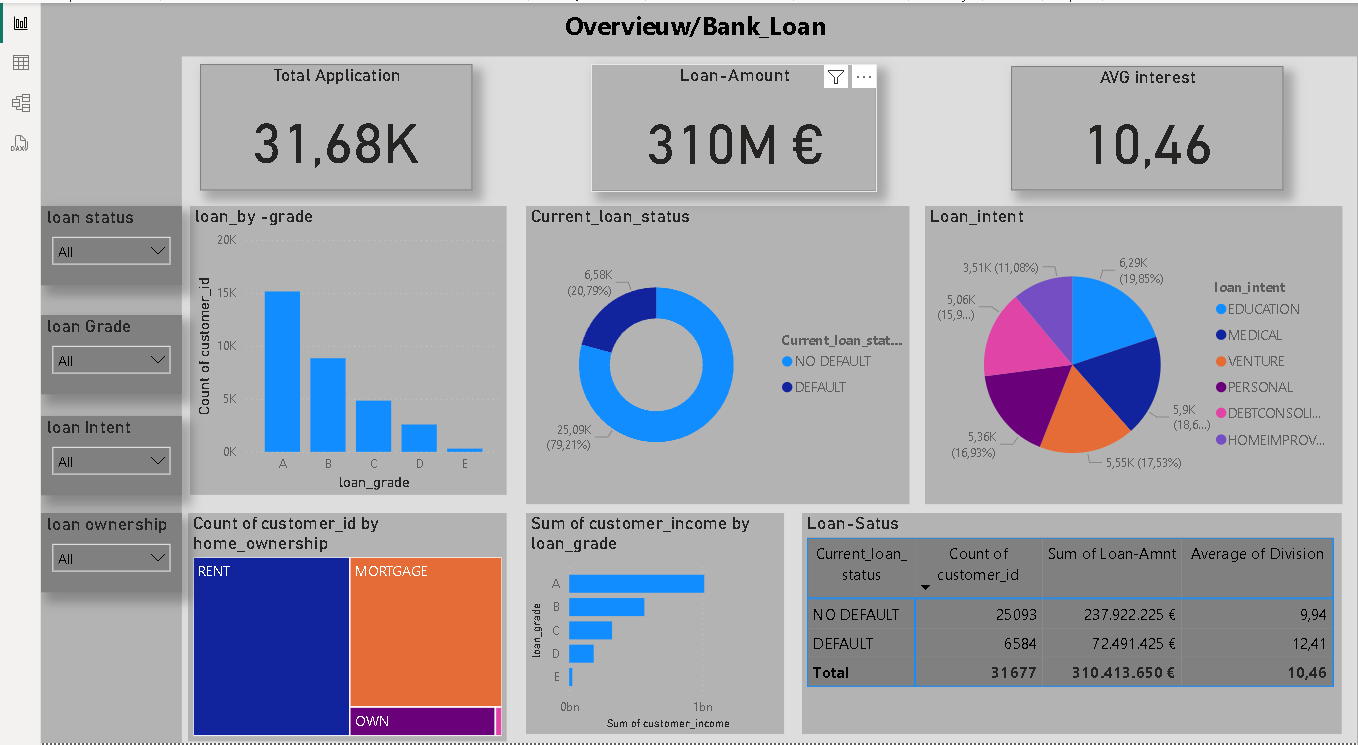

Layout of this report page (visuals, bound fields, positions):
{"tool":"powerbi","page":{"name":"Page 1","canvas":[1280,720],"ordinal":0},"visuals":[{"type":"card","title":"Total Application  ","fields":{"Values":["CountNonNull(loan_risk.customer_id)"]},"box":[154.7,59.3,264.6,122.6],"z":0},{"type":"columnChart","title":"loan_by -grade","fields":{"Category":["loan_risk.loan_grade"],"Y":["CountNonNull(loan_risk.customer_id)"]},"box":[144.9,197.4,308.3,281.1],"z":1000},{"type":"donutChart","title":" Current_loan_status","fields":{"Category":["loan_risk.Current_loan_status"],"Y":["CountNonNull(loan_risk.customer_id)"]},"box":[471.7,197.4,373.5,289.8],"z":2000},{"type":"pieChart","title":" Loan_intent","fields":{"Category":["loan_risk.loan_intent"],"Y":["CountNonNull(loan_risk.customer_id)"]},"box":[859.8,197.4,405.6,289.8],"z":3000},{"type":"treemap","fields":{"Group":["loan_risk.home_ownership"],"Values":["CountNonNull(loan_risk.customer_id)"]},"box":[143,496,310.3,221.8],"z":4000},{"type":"card","title":"AVG interest","fields":{"Values":["Avg(loan_risk.Division)"]},"box":[943.5,61.3,264.6,120.6],"z":5000},{"type":"card","title":"Loan-Amount","fields":{"Values":["Sum(loan_risk.Loan-Amnt)"]},"box":[535,59.3,278.2,124.5],"z":6000},{"type":"pivotTable","title":"Loan-Satus ","fields":{"Rows":["loan_risk.Current_loan_status"],"Values":["Count(loan_risk.customer_id)","Sum(loan_risk.Loan-Amnt)","Avg(loan_risk.Division)"]},"box":[740.2,496,525.2,215],"z":7000},{"type":"textbox","box":[0,0,137.1,719.8],"z":7500},{"type":"barChart","fields":{"Category":["loan_risk.loan_grade"],"Y":["Sum(loan_risk.customer_income)"]},"box":[471.7,496,250.9,215],"z":8000},{"type":"textbox","box":[0,0,1280,51.6],"z":10000},{"type":"slicer","title":"loan status","fields":{"Values":["loan_risk.Current_loan_status"]},"box":[0,197.4,137.1,76.8],"z":14500},{"type":"slicer","title":"loan Grade","fields":{"Values":["loan_risk.loan_grade"]},"box":[0,303.5,137.1,76.8],"z":15000},{"type":"slicer","title":"loan Intent","fields":{"Values":["loan_risk.loan_intent"]},"box":[0,401.7,137.1,76.8],"z":15500},{"type":"slicer","title":"loan ownership","fields":{"Values":["loan_risk.home_ownership"]},"box":[0,496,137.1,76.8],"z":16000}]}

Visuals, with their boxes in screenshot pixels (x1, y1, x2, y2):
"Total Application  " card: pyautogui.locateOnScreen(199, 63, 480, 193)
"loan_by -grade" columnChart: pyautogui.locateOnScreen(189, 209, 516, 507)
" Current_loan_status" donutChart: pyautogui.locateOnScreen(535, 209, 931, 516)
" Loan_intent" pieChart: pyautogui.locateOnScreen(946, 209, 1357, 516)
treemap - loan_risk.home_ownership x CountNonNull(loan_risk.customer_id): pyautogui.locateOnScreen(187, 526, 516, 744)
"AVG interest" card: pyautogui.locateOnScreen(1035, 65, 1315, 193)
"Loan-Amount" card: pyautogui.locateOnScreen(602, 63, 897, 195)
"Loan-Satus " pivotTable: pyautogui.locateOnScreen(820, 526, 1357, 744)
textbox: pyautogui.locateOnScreen(35, 0, 181, 744)
barChart - loan_risk.loan_grade x Sum(loan_risk.customer_income): pyautogui.locateOnScreen(535, 526, 801, 744)
textbox: pyautogui.locateOnScreen(35, 0, 1357, 55)
"loan status" slicer: pyautogui.locateOnScreen(35, 209, 181, 291)
"loan Grade" slicer: pyautogui.locateOnScreen(35, 322, 181, 403)
"loan Intent" slicer: pyautogui.locateOnScreen(35, 426, 181, 507)
"loan ownership" slicer: pyautogui.locateOnScreen(35, 526, 181, 607)
